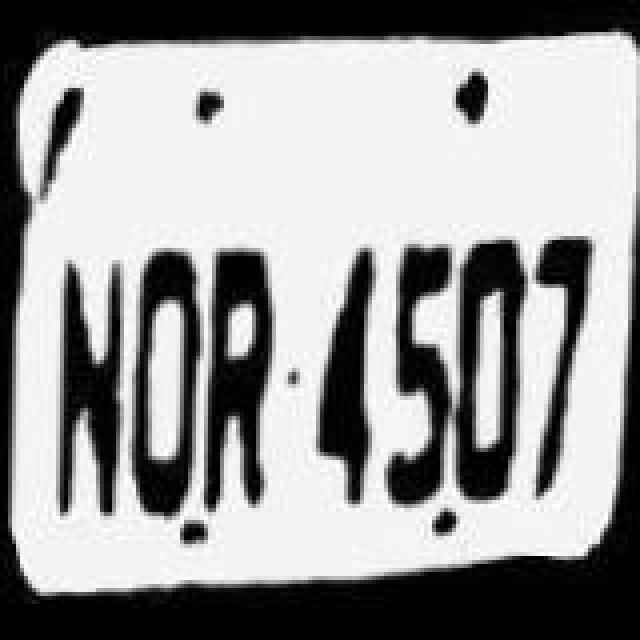4: (310, 244, 390, 512)
5: (386, 222, 458, 506)
7: (522, 220, 610, 500)
N: (48, 260, 128, 532)
O: (126, 244, 202, 520), (452, 232, 528, 496)
R: (200, 246, 288, 522)
